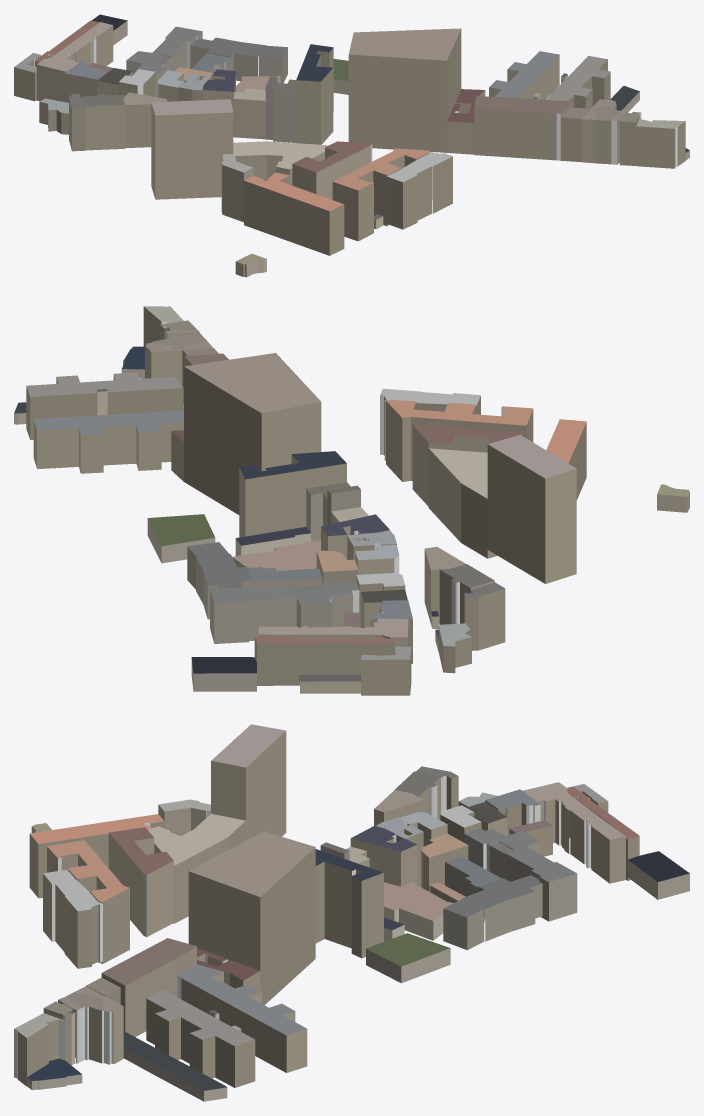
The picture shows the model from 3 angles, top to bottom: view 1: azimuth 30°, elevation 25°; view 2: azimuth 150°, elevation 25°; view 3: azimuth 270°, elevation 25°; orthographic projection. The views are drawn at different scales.
Parts seen in each view (by area): view 1: tuile; view 2: tuile; view 3: tuile.
Part boxes in pixels (left/top/right/bottom): tuile: left=14, top=14, right=689, bottom=277; tuile: left=14, top=306, right=689, bottom=695; tuile: left=14, top=724, right=689, bottom=1101.
Size of the model in its own units: 263 by 55.11 by 265.
